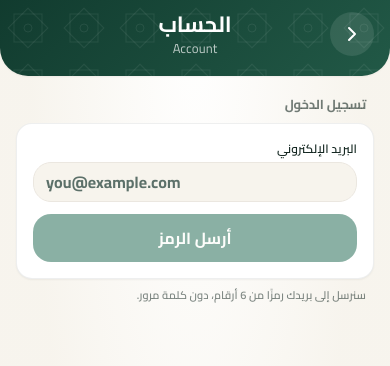
Test: sending the code › invalid email, too many attempts, offline: an error, still on the email step
Later steps or results of the test are not shown.
Type "x@example.com" into the field labelled "البريد الإلكتروني" at (195, 182), box [33,162,357,202]
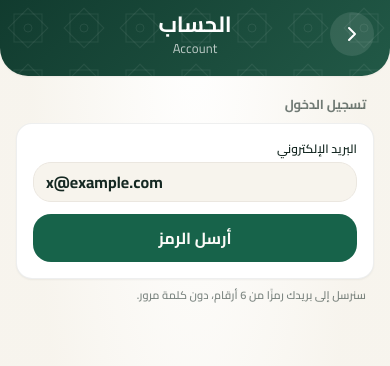
Click the button "أرسل الرمز" at (195, 238), box [33,214,357,262]
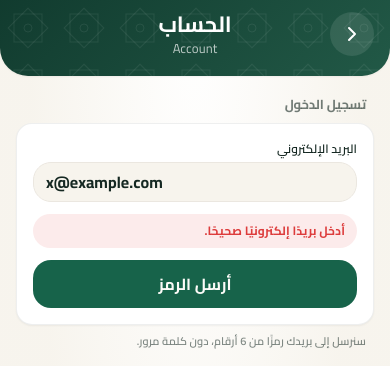
Expected: the form is shown, [33,140,357,308]
Expected: the message reads "أدخل بريدًا إلكترونيًا صحيحًا.", [204,219,345,242]
